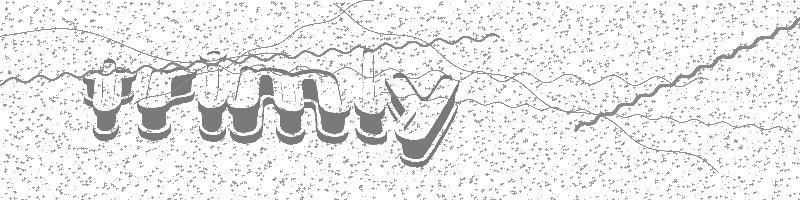i: (200, 46, 228, 144)
l: (353, 44, 390, 146)
m: (226, 64, 352, 145)
r: (136, 62, 199, 143)
t: (79, 57, 137, 141)
y: (384, 69, 466, 171)
